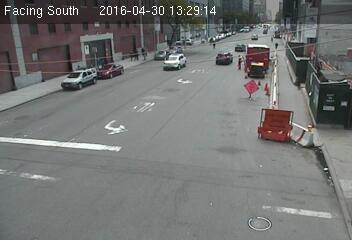neg: (166, 63, 195, 100), (48, 130, 72, 162), (124, 73, 147, 103), (288, 108, 310, 138), (69, 57, 90, 85), (212, 141, 232, 168), (177, 103, 196, 129), (254, 210, 269, 230)
